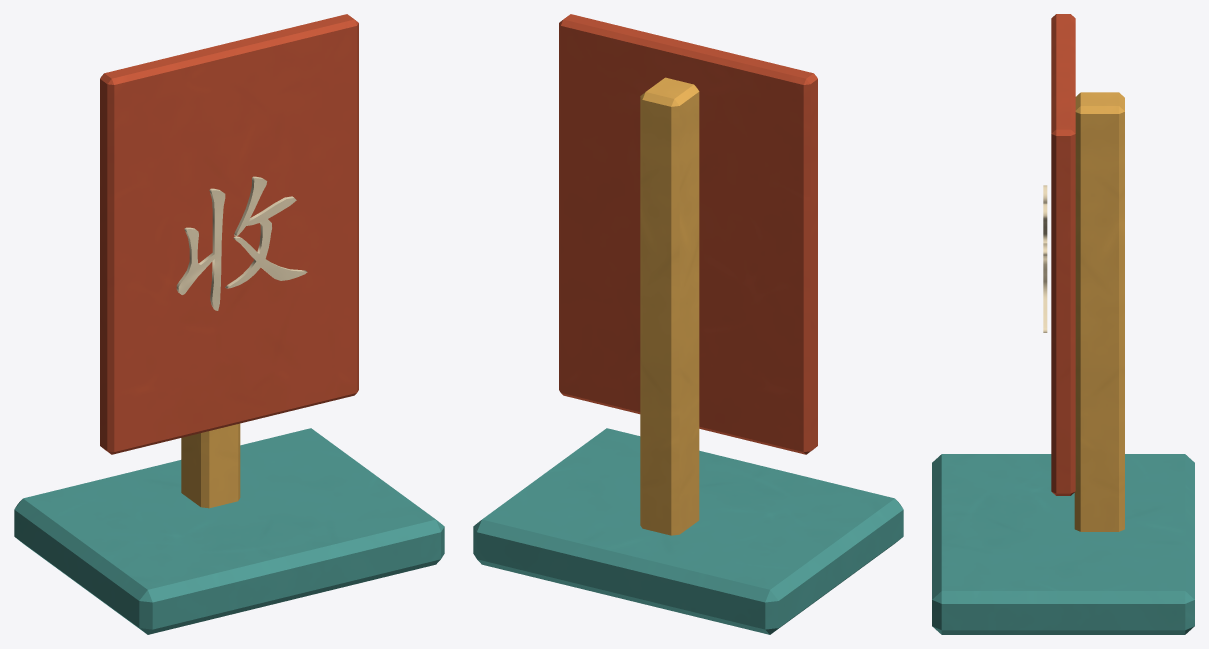
Rendered from marker_delivery_receipt.glb.
3 renders of one model, left to right at view 1: azimuth 30°, elevation 25°; view 2: azimuth 150°, elevation 25°; view 3: azimuth 270°, elevation 25°, orthographic. The views are drawn at different scales.
Visible parts, largest first — view 1: marker_delivery_receipt__red_paper_tag, marker_delivery_receipt__base, marker_delivery_receipt__receipt_character, marker_delivery_receipt__wood_spine; view 2: marker_delivery_receipt__red_paper_tag, marker_delivery_receipt__base, marker_delivery_receipt__wood_spine; view 3: marker_delivery_receipt__base, marker_delivery_receipt__wood_spine, marker_delivery_receipt__red_paper_tag, marker_delivery_receipt__receipt_character.
Part boxes in pixels (x1=…): marker_delivery_receipt__red_paper_tag: x1=100, y1=14, x2=358, y2=454; marker_delivery_receipt__base: x1=14, y1=428, x2=444, y2=634; marker_delivery_receipt__receipt_character: x1=176, y1=176, x2=307, y2=310; marker_delivery_receipt__wood_spine: x1=181, y1=423, x2=240, y2=508; marker_delivery_receipt__red_paper_tag: x1=559, y1=14, x2=817, y2=454; marker_delivery_receipt__base: x1=473, y1=428, x2=903, y2=634; marker_delivery_receipt__wood_spine: x1=640, y1=77, x2=699, y2=535; marker_delivery_receipt__base: x1=932, y1=454, x2=1194, y2=634; marker_delivery_receipt__wood_spine: x1=1074, y1=92, x2=1124, y2=531; marker_delivery_receipt__red_paper_tag: x1=1051, y1=14, x2=1075, y2=495; marker_delivery_receipt__receipt_character: x1=1043, y1=185, x2=1047, y2=332.
Bounding box in the file's own units: 0.17 × 0.27 × 0.13.
Materials: 4 (4 with a texture image).
